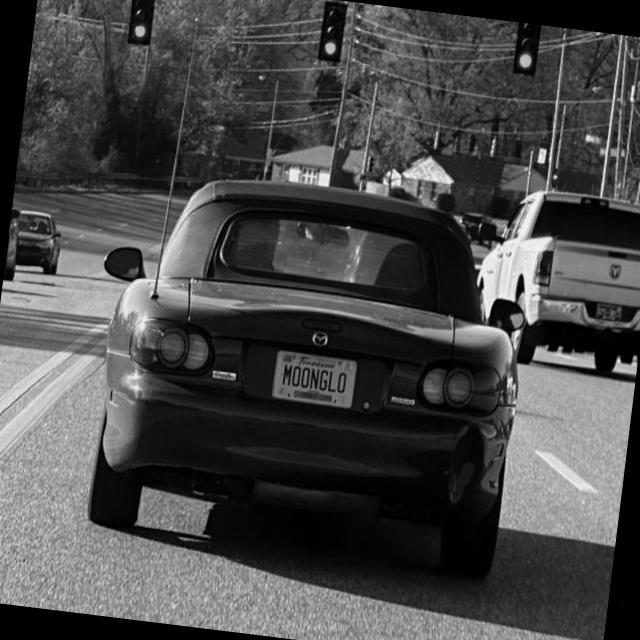LicensePlate: (269, 347, 356, 409)
